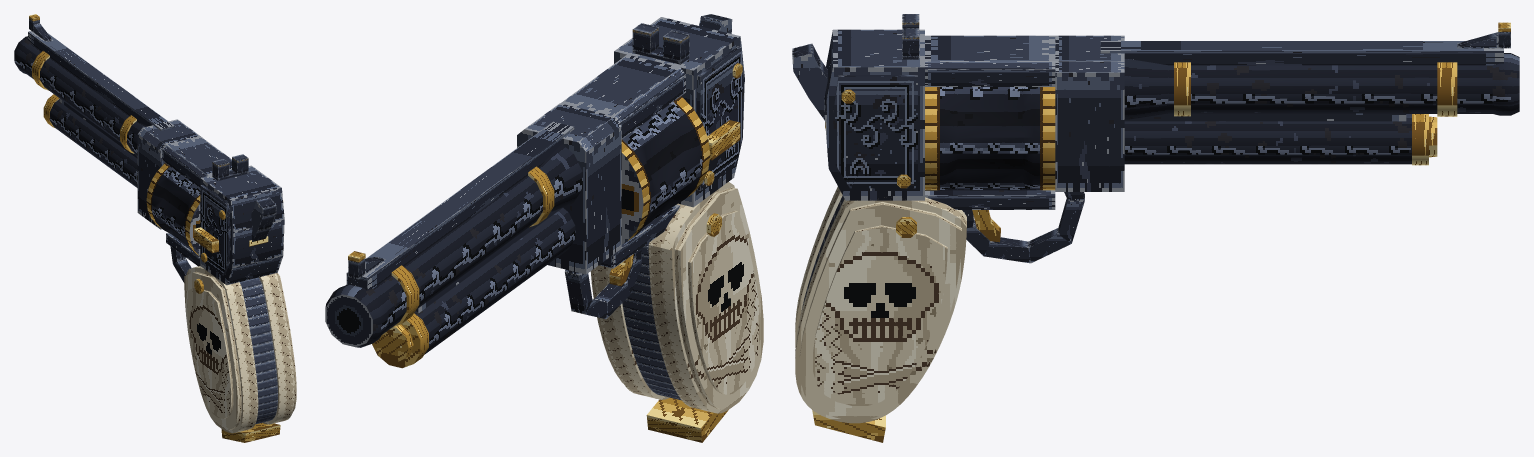
File: pistol_cannon_base.glb
The picture shows the model from 3 angles, left to right: view 1: azimuth 30°, elevation 25°; view 2: azimuth 150°, elevation 25°; view 3: azimuth 270°, elevation 25°; orthographic projection. The views are drawn at different scales.
Visible parts, largest first — view 1: frame, magazine, hammer; view 2: frame, magazine, hammer; view 3: frame, magazine, hammer.
Part boxes in pixels (x1=…): frame: x1=14, y1=14, x2=296, y2=442; magazine: x1=146, y1=163, x2=200, y2=256; hammer: x1=249, y1=197, x2=276, y2=246; frame: x1=325, y1=17, x2=763, y2=442; magazine: x1=621, y1=96, x2=710, y2=244; hammer: x1=699, y1=14, x2=732, y2=33; frame: x1=795, y1=14, x2=1519, y2=442; magazine: x1=925, y1=87, x2=1055, y2=190; hammer: x1=792, y1=43, x2=827, y2=128.
Size of the model in its own units: 0.045 by 0.1577 by 0.2568.
2 materials, 2 textured.
